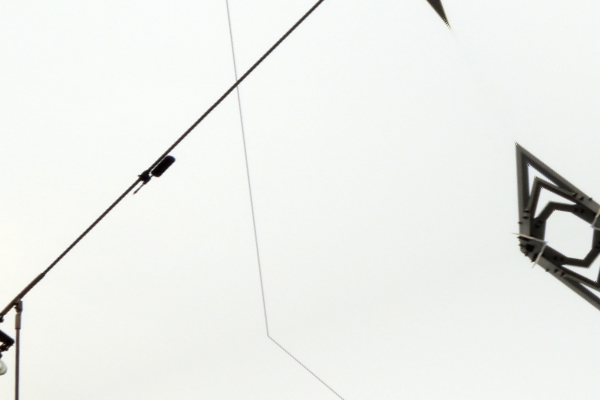damper_defect: (130, 153, 175, 197)
